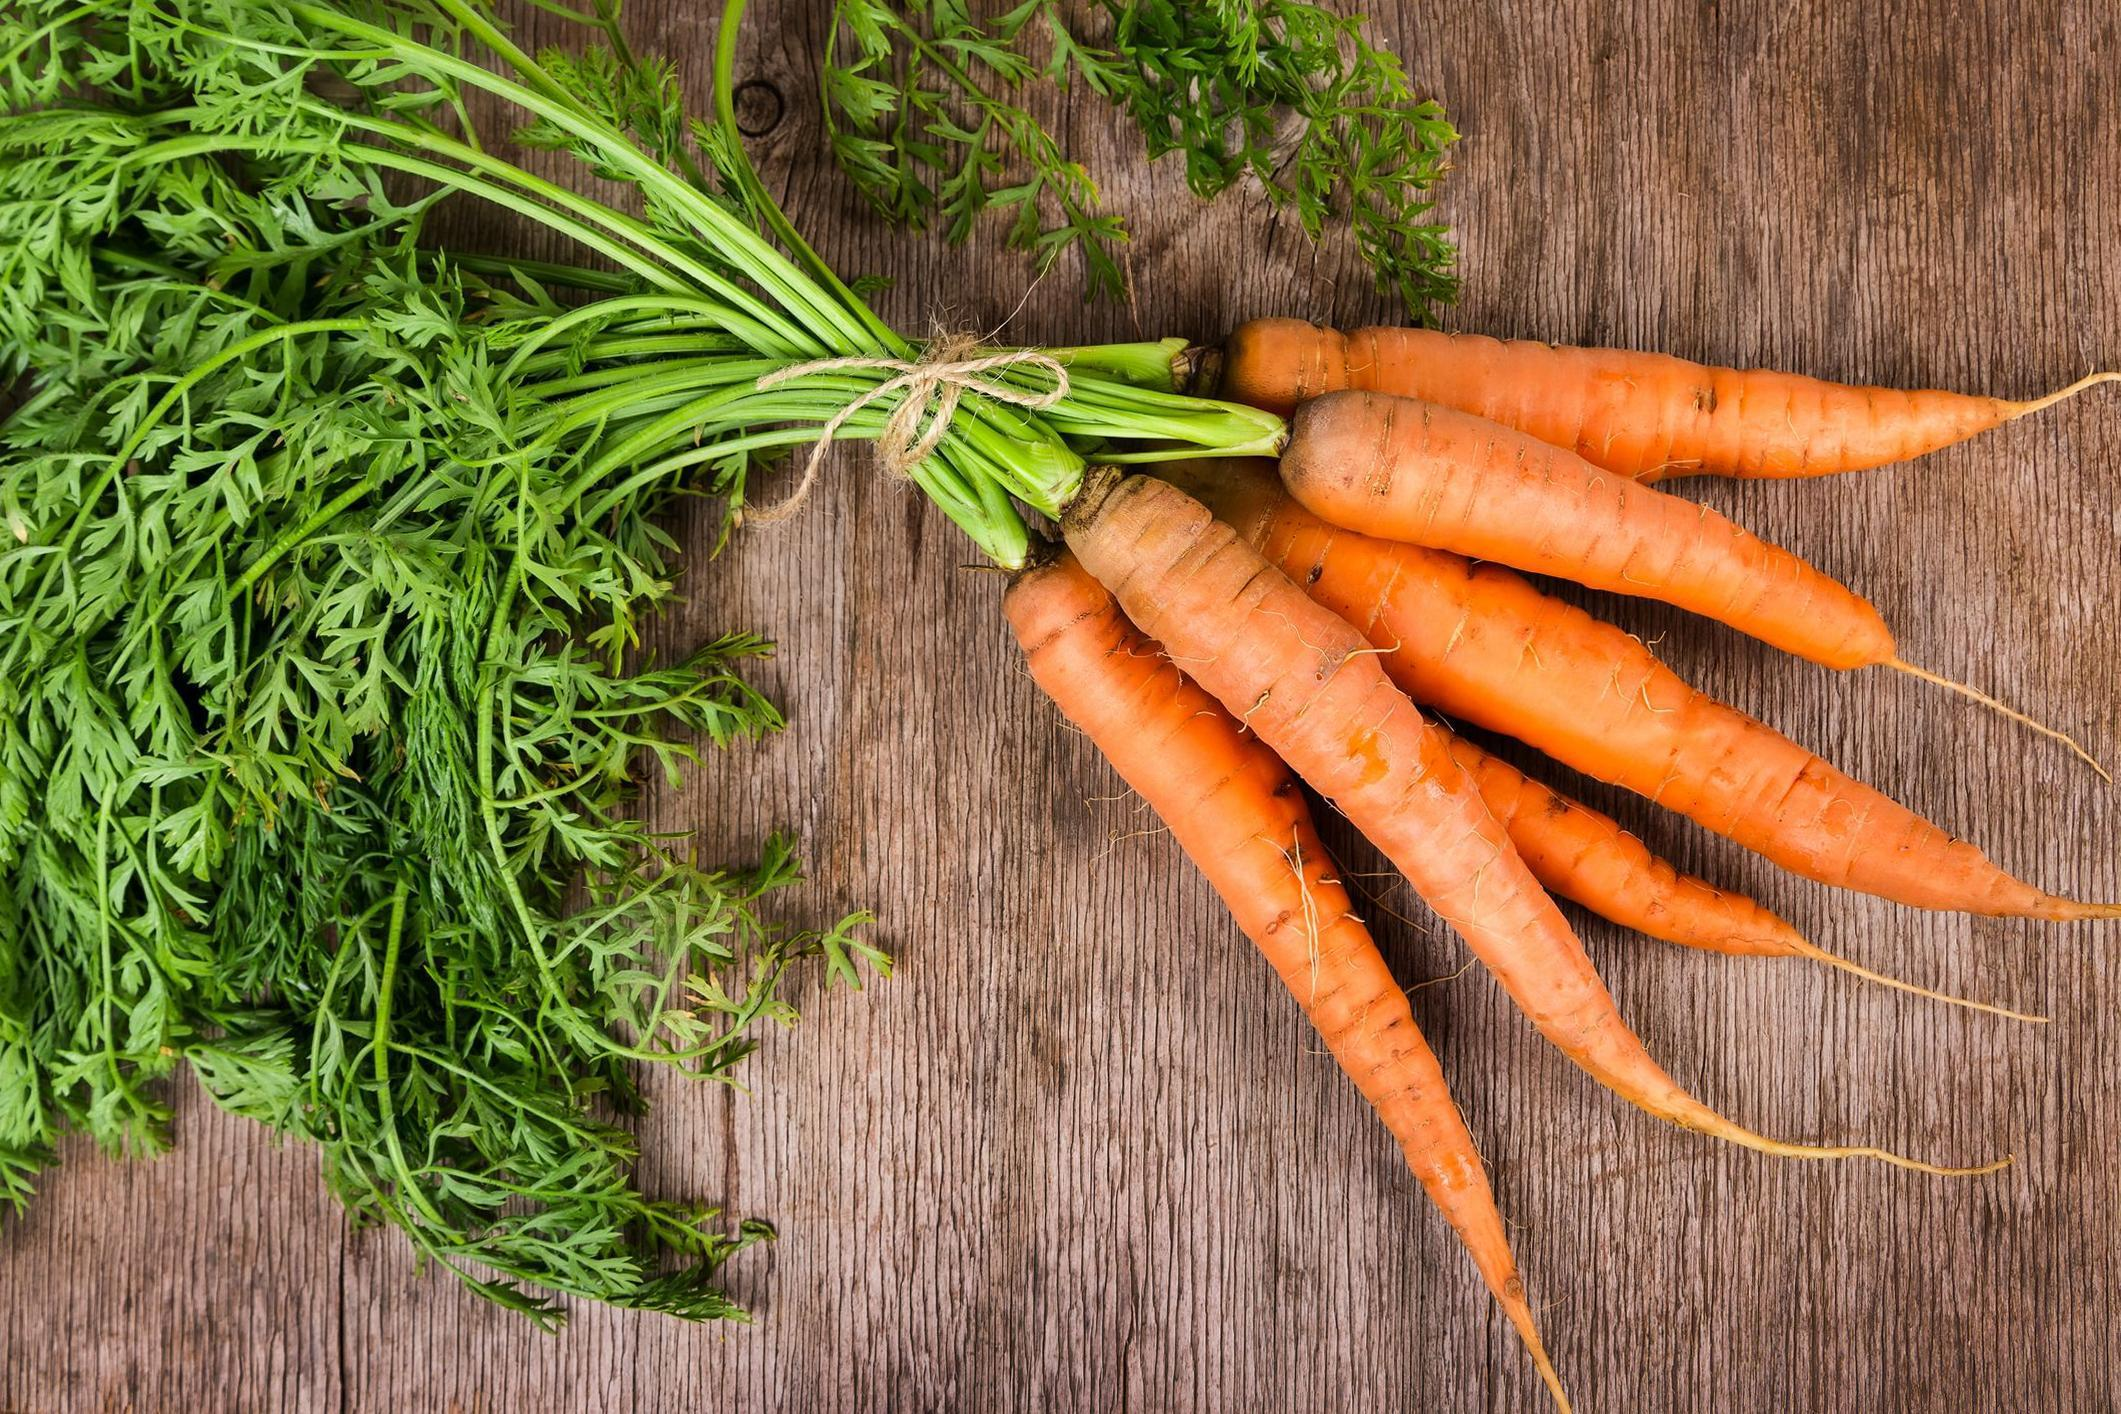carrot: (953, 275, 2059, 1315), (1029, 489, 1952, 1289), (1169, 294, 2007, 704)
